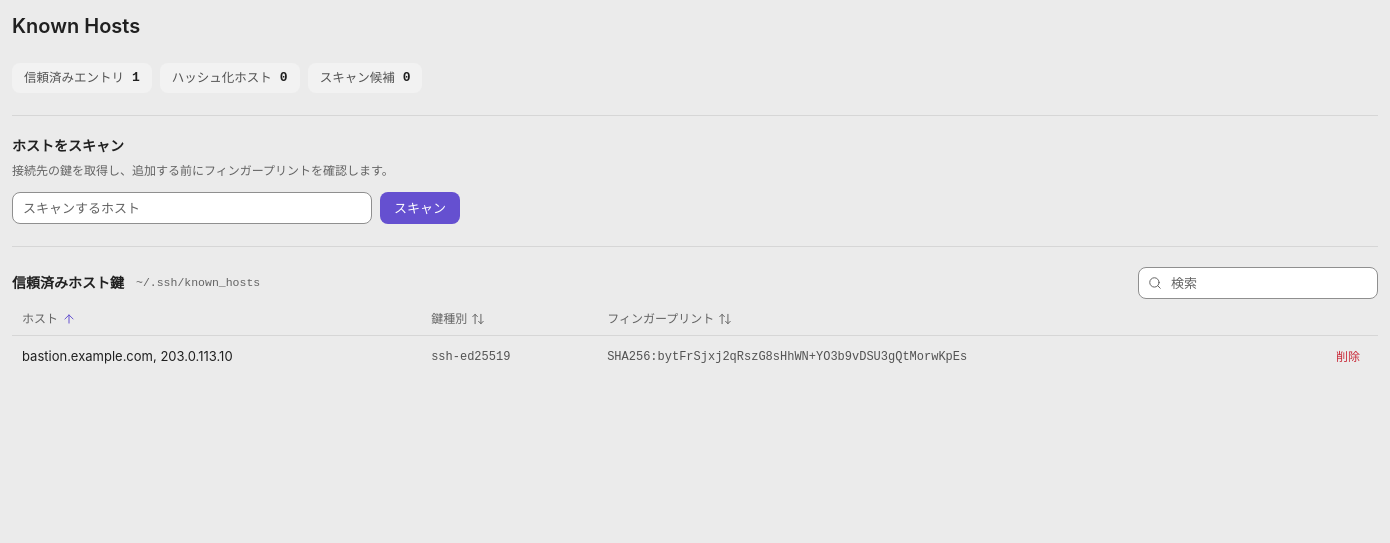
KnownHostsPanel › warns in the screen's language that a scan does not prove the host's identity
This screenshot has width=1390, height=543.
Type "new.example.com" into the field labelled "スキャンするホスト" at (192,208), box [12, 192, 372, 224]
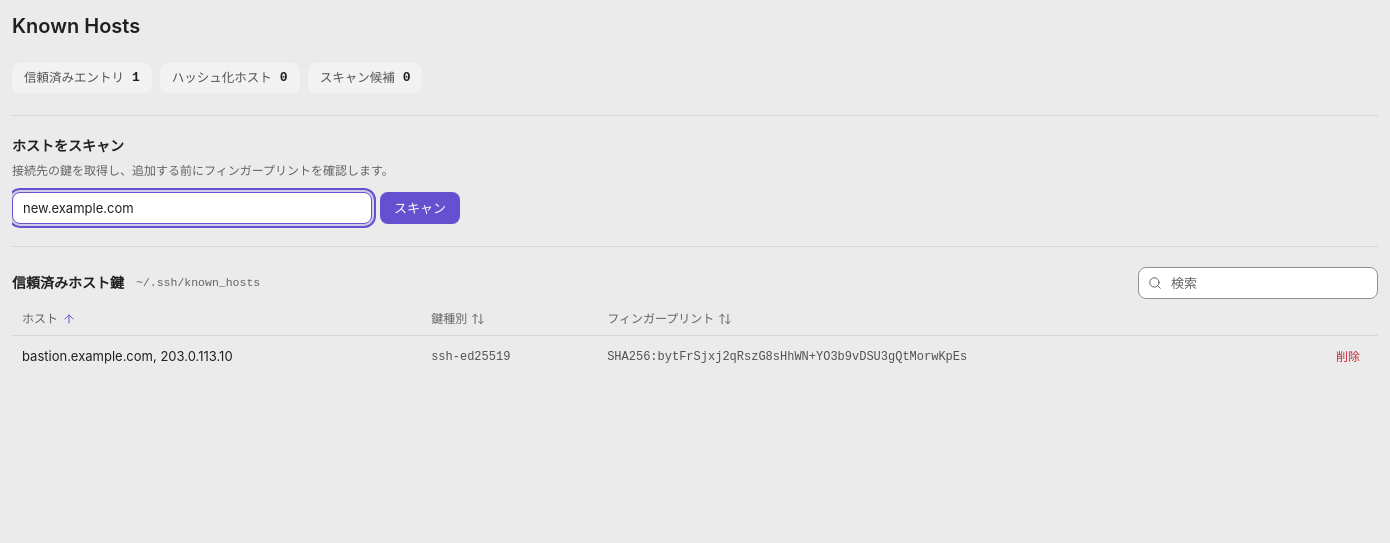
Click the button "スキャン" at (420,208), box [380, 192, 460, 224]
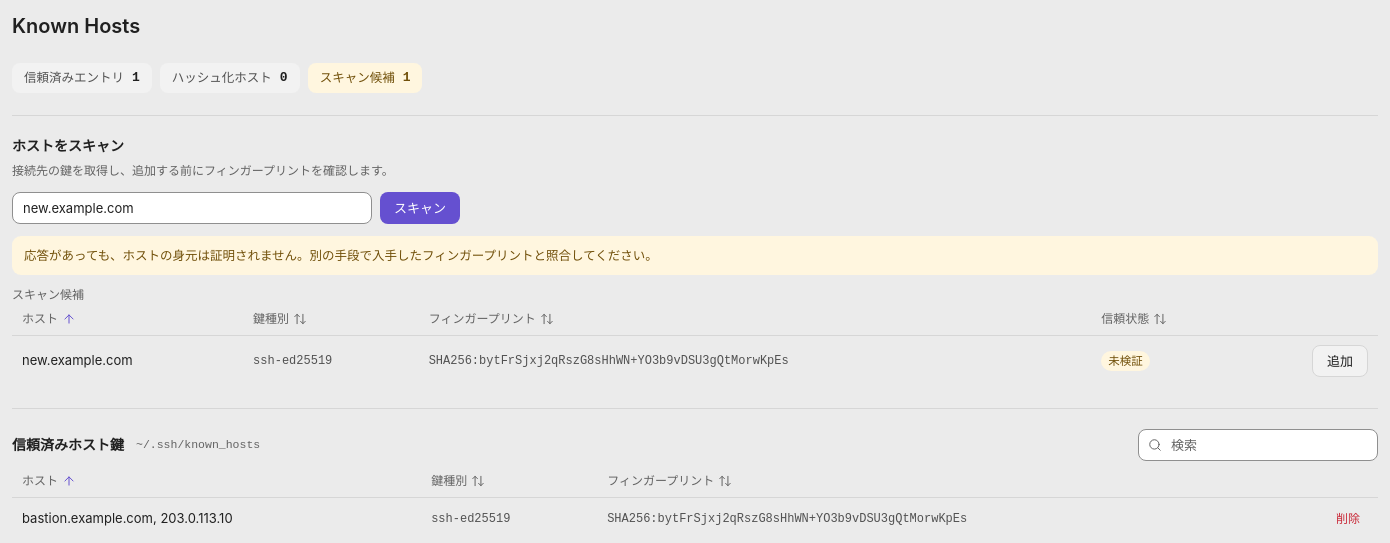
Result: the text "応答があっても、ホストの身元は証明されません。別の手段で入手したフィンガープリントと照合してください。" is shown at [12, 236, 1378, 275]
